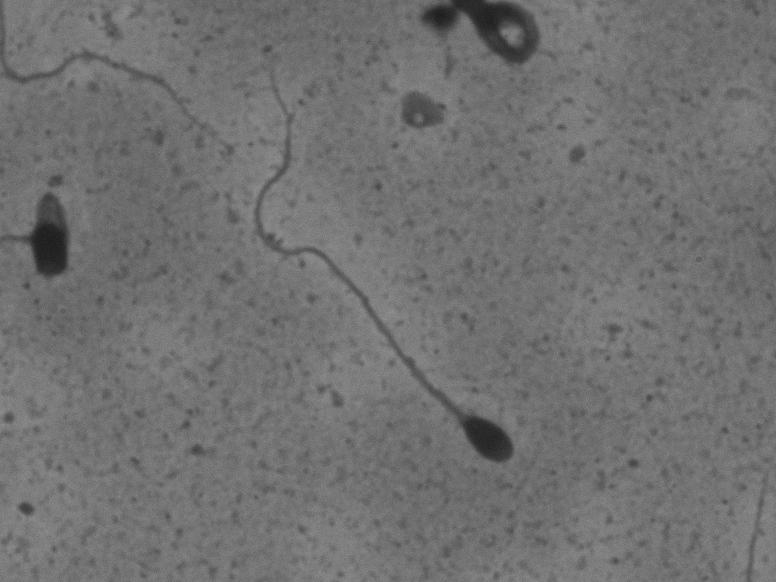Normal: (210, 70, 536, 487)
